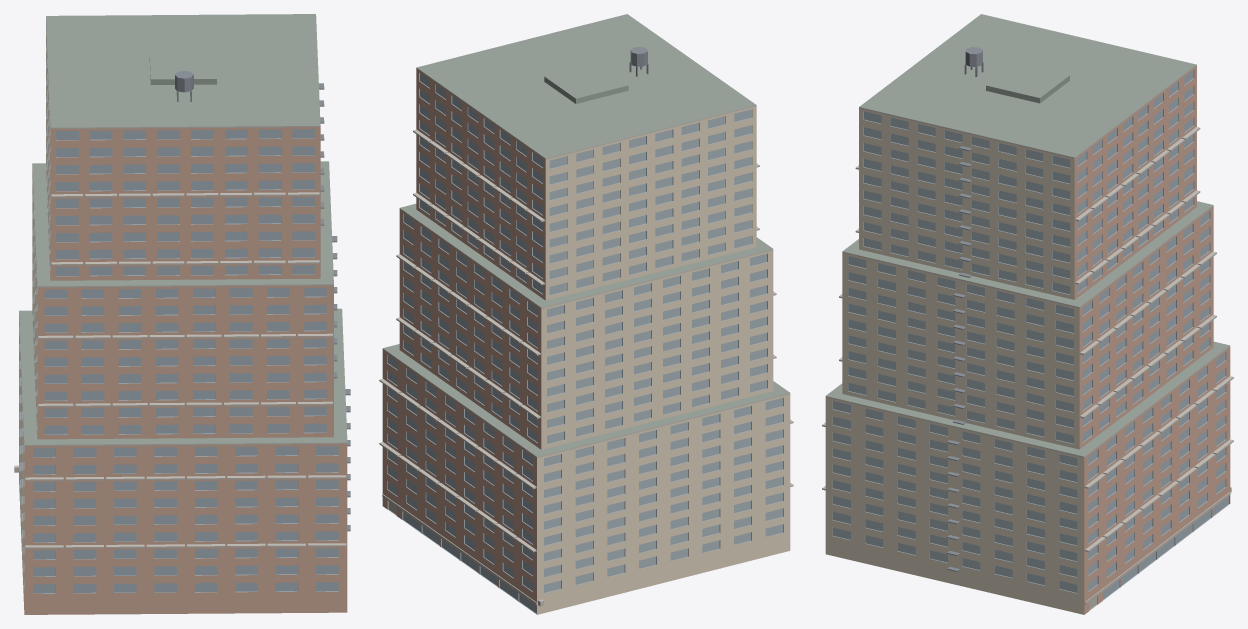
Rendered from doitt-131170__lod_0.glb.
The picture shows the model from 3 angles, left to right: view 1: azimuth 30°, elevation 25°; view 2: azimuth 150°, elevation 25°; view 3: azimuth 270°, elevation 25°; orthographic projection. The views are drawn at different scales.
Size of the model in its own units: 83.08 by 104 by 83.54.
